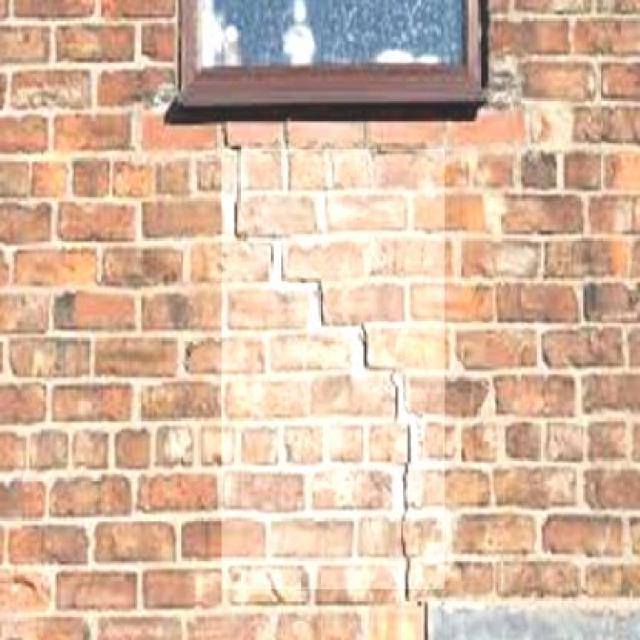SurfaceCrack: (238, 160, 460, 612)
